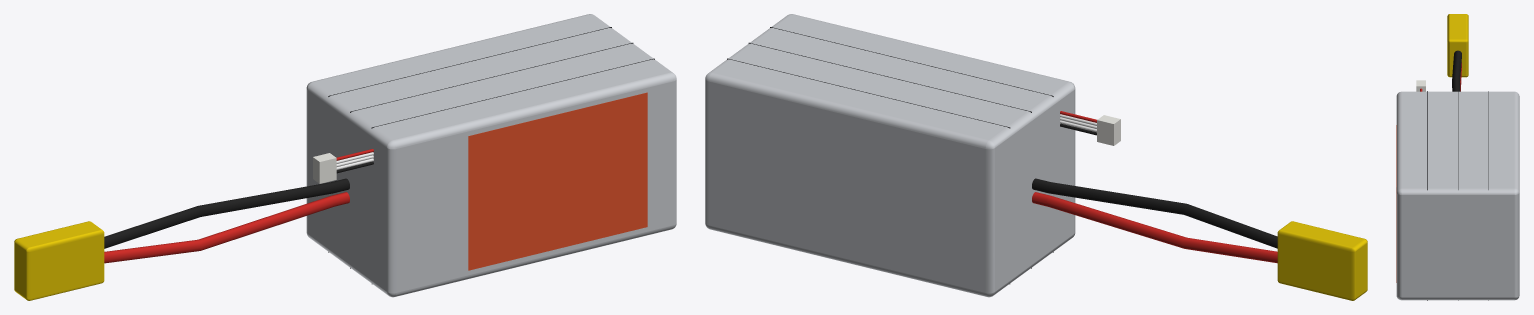
Rendered from betafpv-lava-4s-850.glb.
3 renders of one model, left to right at view 1: azimuth 30°, elevation 25°; view 2: azimuth 150°, elevation 25°; view 3: azimuth 270°, elevation 25°, orthographic. The views are drawn at different scales.
Visible parts, largest first — view 1: body, label, connector, lead_red, lead_black, balance_plug; view 2: body, connector, lead_red, lead_black, balance_plug; view 3: body, connector, lead_black, label, balance_plug, cell_seam_3, cell_seam_1, cell_seam_2.
Part boxes in pixels (<box>): body: <box>306,14,676,297</box>; label: <box>468,92,647,270</box>; connector: <box>14,221,104,300</box>; lead_red: <box>104,192,349,263</box>; lead_black: <box>104,178,349,248</box>; balance_plug: <box>313,153,336,183</box>; body: <box>705,14,1075,297</box>; connector: <box>1277,221,1367,300</box>; lead_red: <box>1032,192,1277,263</box>; lead_black: <box>1032,178,1277,248</box>; balance_plug: <box>1097,115,1120,145</box>; body: <box>1396,91,1519,300</box>; connector: <box>1447,14,1468,77</box>; lead_black: <box>1452,50,1461,91</box>; label: <box>1396,125,1396,282</box>; balance_plug: <box>1416,80,1425,91</box>; cell_seam_3: <box>1427,91,1427,300</box>; cell_seam_1: <box>1488,91,1488,300</box>; cell_seam_2: <box>1458,91,1458,300</box>.
Size of the model in its own units: 124 by 30.04 by 30.04.
